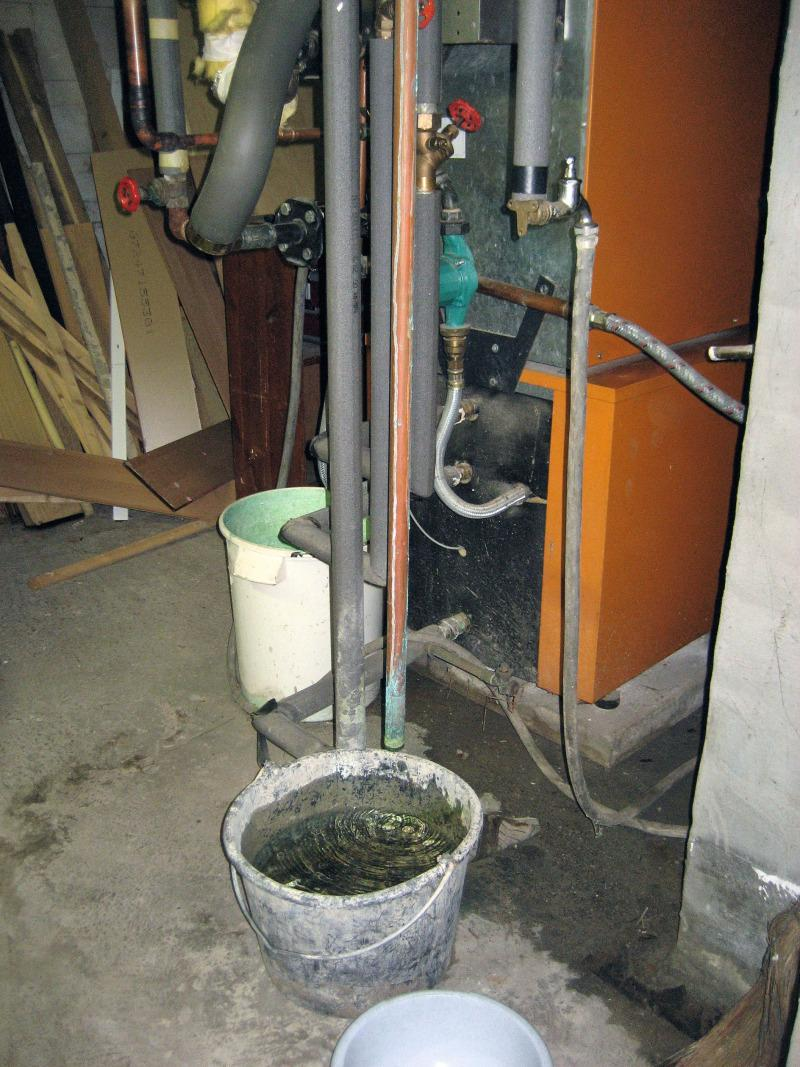water accumulation: (360, 634, 737, 1067)
